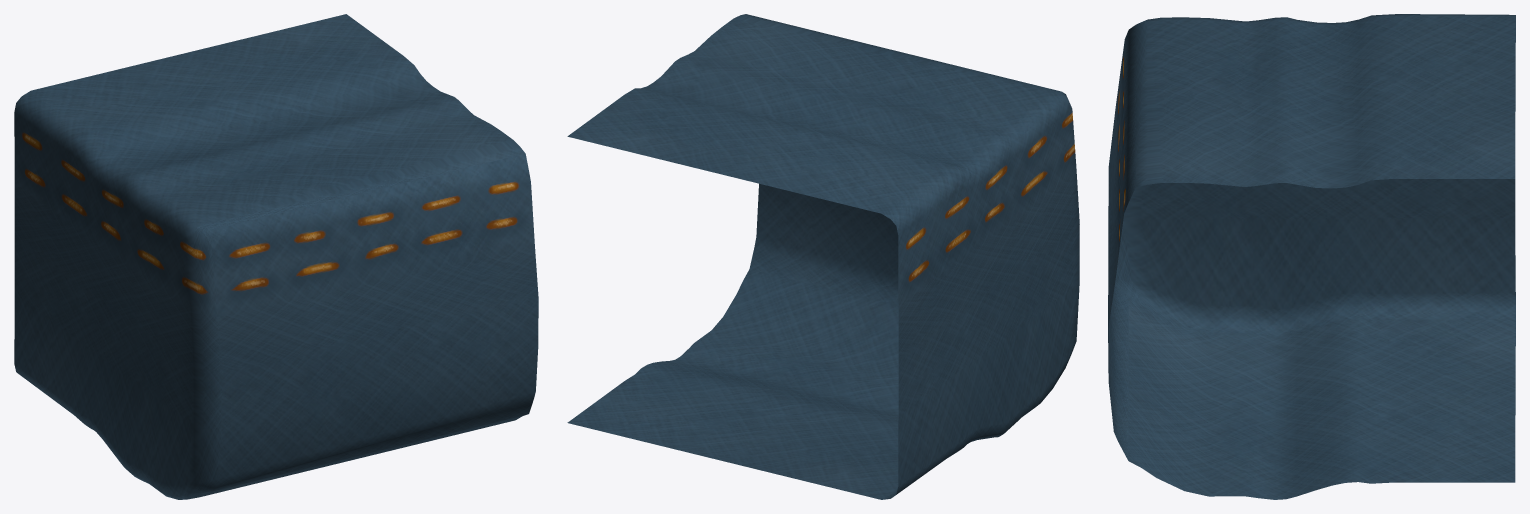
The model's file is tl_flyR.FBX.
3 renders of one model, left to right at view 1: azimuth 30°, elevation 25°; view 2: azimuth 150°, elevation 25°; view 3: azimuth 270°, elevation 25°, orthographic. The views are drawn at different scales.
Visible parts, largest first — view 1: tl_flyR_MESH; view 2: tl_flyR_MESH; view 3: tl_flyR_MESH.
Part boxes in pixels (x1,y1,x2,y2): tl_flyR_MESH: (14,14,538,499); tl_flyR_MESH: (567,14,1079,499); tl_flyR_MESH: (1108,14,1515,499).
Bounding box in the file's own units: 100 × 87.33 × 101.
